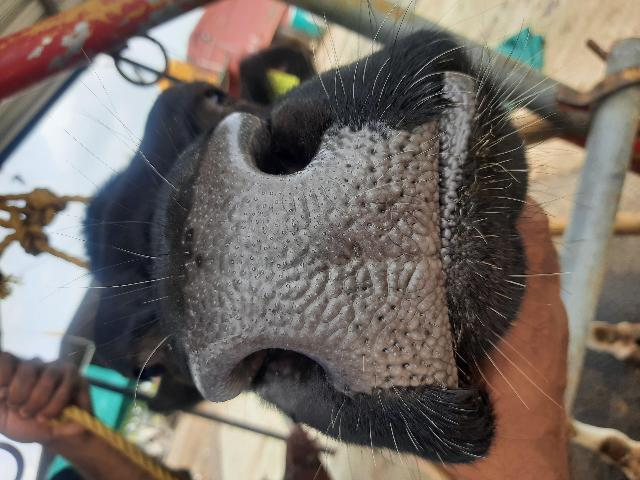Muzzle: (201, 178, 444, 344)
